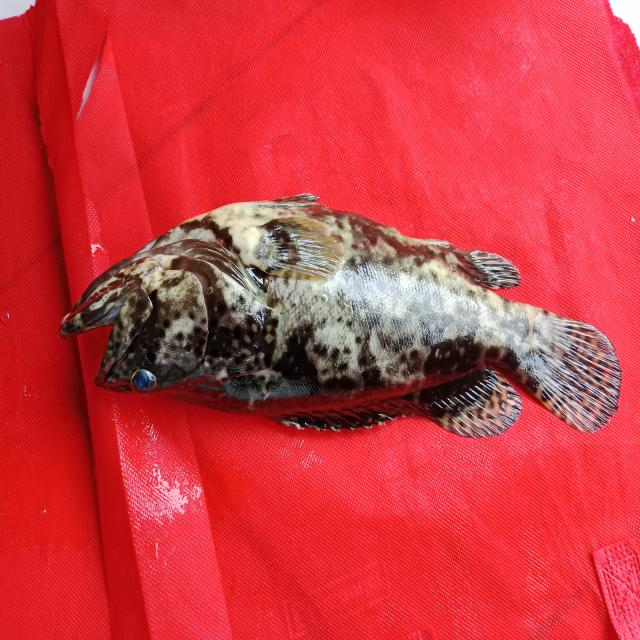ikan: (53, 185, 628, 452)
